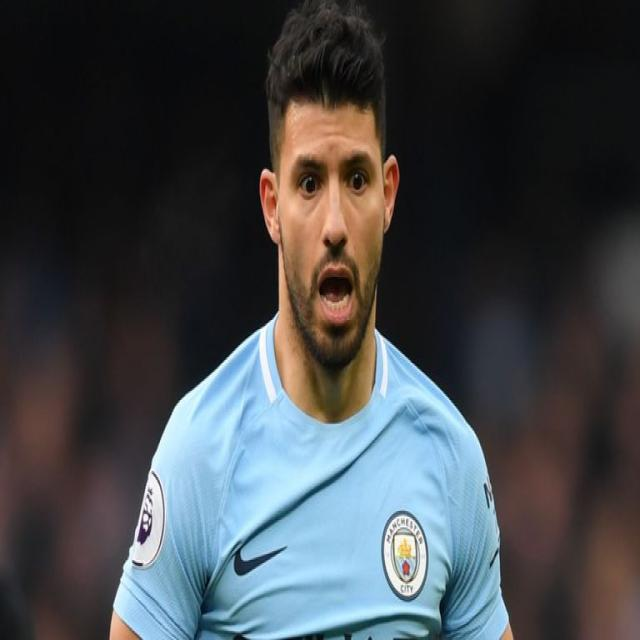human: (108, 0, 525, 640)
